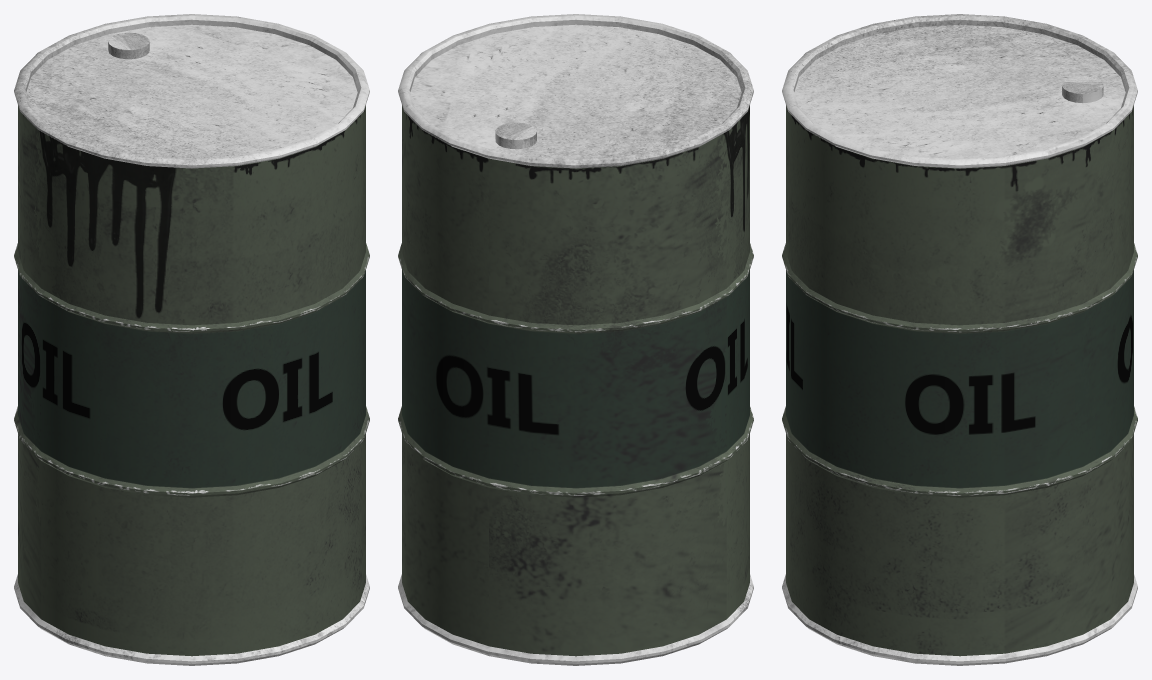
The model's file is Barrel_Final.fbx.
3 renders of one model, left to right at view 1: azimuth 30°, elevation 25°; view 2: azimuth 150°, elevation 25°; view 3: azimuth 270°, elevation 25°, orthographic.
Parts seen in each view (by area): view 1: Barrel_Final; view 2: Barrel_Final; view 3: Barrel_Final.
Boxes of the visible parts, left/top/right/bottom form: Barrel_Final: left=14, top=14, right=369, bottom=665; Barrel_Final: left=398, top=14, right=753, bottom=665; Barrel_Final: left=782, top=14, right=1137, bottom=665.
Bounding box in the file's own units: 51.09 × 80.26 × 51.09.
